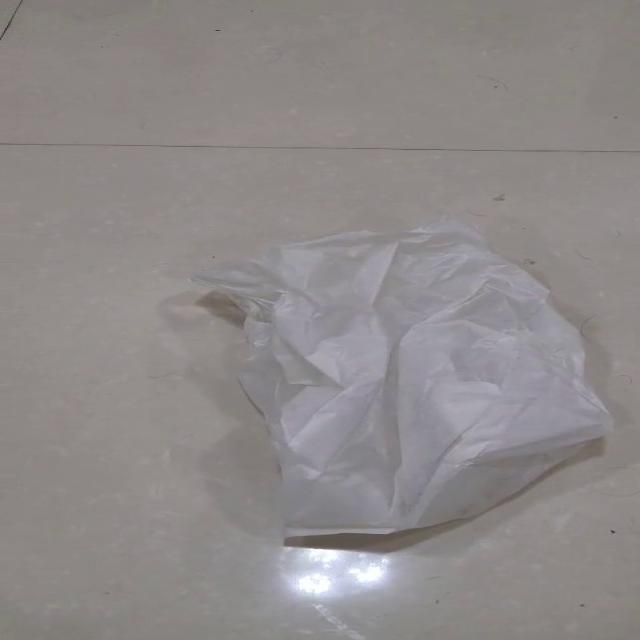plastic: (188, 217, 614, 539)
